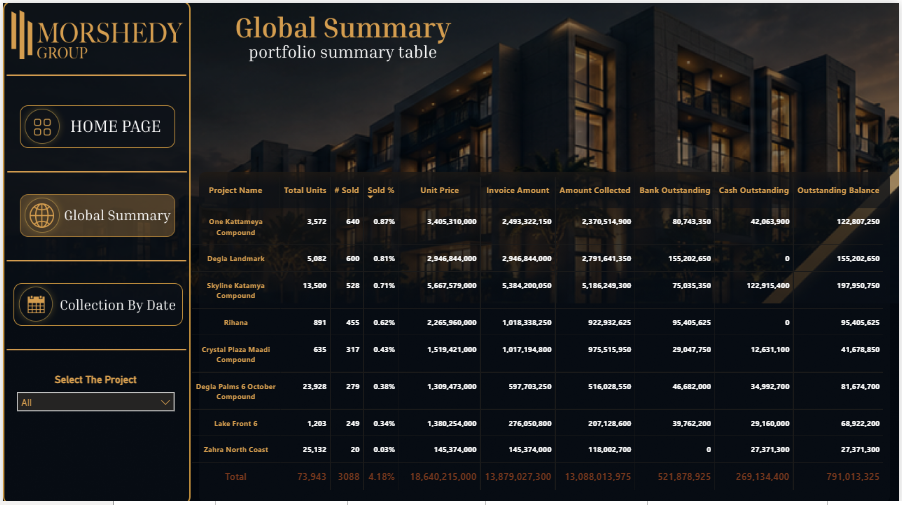

The dashboard page shown, as its layout file describes it:
{"tool":"powerbi","page":{"name":"Global Summary","canvas":[1280,720],"ordinal":1},"visuals":[{"type":"pivotTable","fields":{"Rows":["All_Projects_Raw.Project Name"],"Values":["All DAXs.Adopted Total Units","All DAXs.# Sold","All DAXs.Sold %","All DAXs.Unit Price","All DAXs.Invoice Amount","All DAXs.Amount Collected","All DAXs.Bank Outstanding","All DAXs.Cash Outstanding","All DAXs.Outstanding Balance"]},"box":[264.6,243,1015.2,465.8],"z":0},{"type":"actionButton","box":[28.6,146.8,212.8,62.2],"z":1000},{"type":"actionButton","box":[28.6,271.2,212.8,62.2],"z":2000},{"type":"actionButton","box":[19.9,400.6,235.1,62.2],"z":3000},{"type":"slicer","title":"Select The Project","fields":{"Values":["All_Projects_Raw.Project Name"]},"box":[10,530,245.1,61],"z":4000}]}

Visuals, with their boxes in screenshot pixels (x1, y1, x2, y2), scaled from the page's 1280x720 canvas onto the 902x505 screenshot:
pivotTable - All_Projects_Raw.Project Name x All DAXs.Adopted Total Units: (x1=186, y1=170, x2=901, y2=497)
actionButton: (x1=20, y1=103, x2=170, y2=147)
actionButton: (x1=20, y1=190, x2=170, y2=234)
actionButton: (x1=14, y1=281, x2=180, y2=325)
"Select The Project" slicer: (x1=7, y1=372, x2=180, y2=415)
